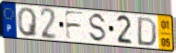2: (39, 6, 58, 42), (115, 14, 134, 47)
D: (136, 16, 158, 48)
F: (63, 10, 85, 42)
Q: (16, 7, 39, 38)
S: (88, 12, 108, 44)
